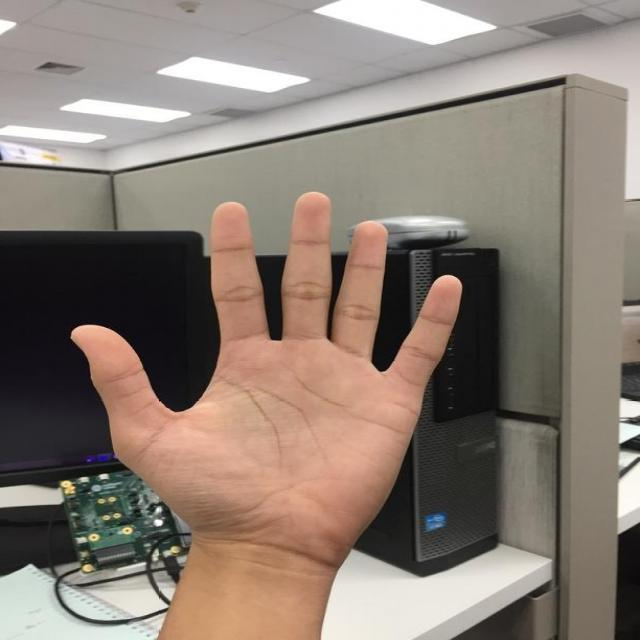hand: (71, 190, 465, 564)
